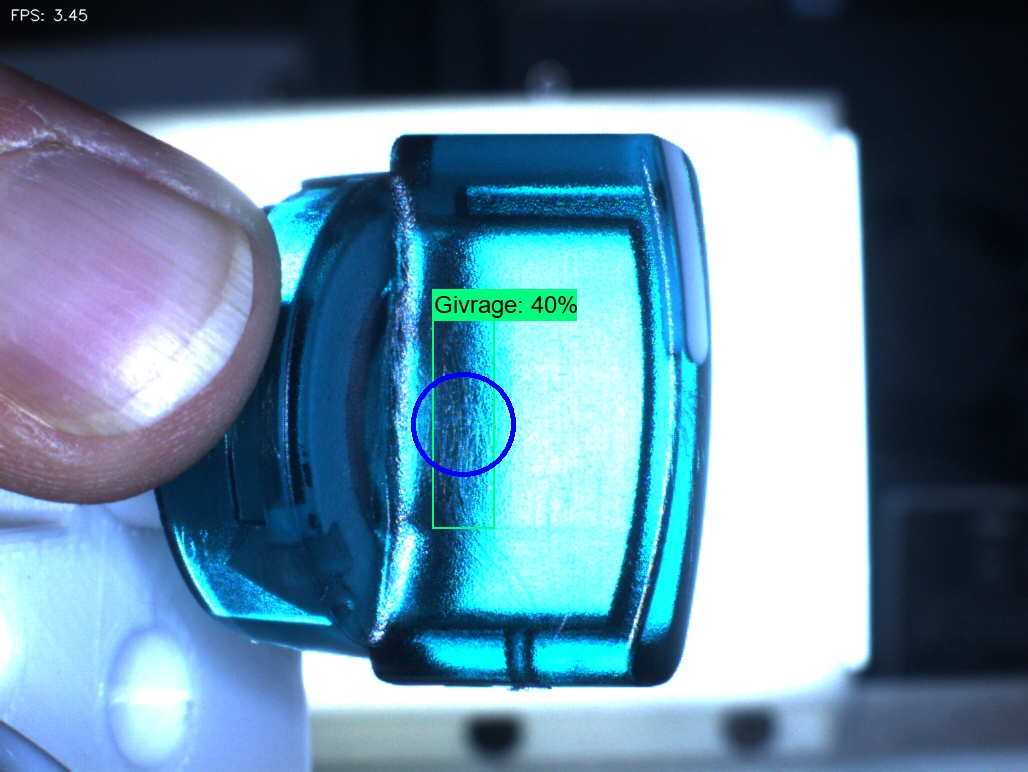Bulle: (472, 602, 568, 708)
